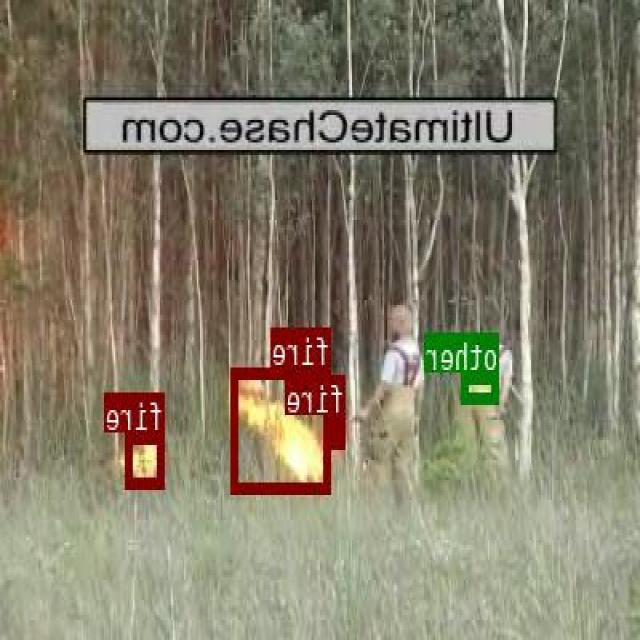fire: (233, 366, 332, 491), (126, 432, 166, 487), (332, 414, 346, 446)
other: (463, 370, 500, 401)
